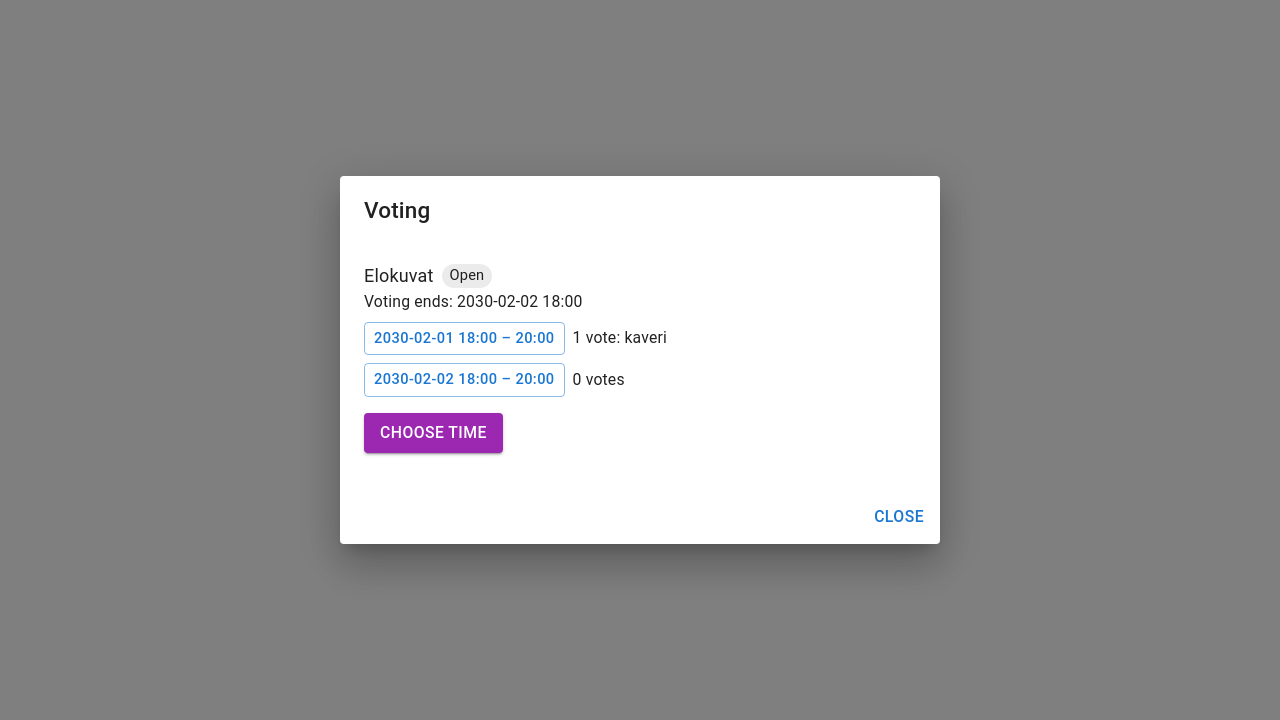
Scenario: VotingDialog › näyttää virheen, kun vahvistus epäonnistuu
Click the button "Choose time": (433,433) left=364, top=413, right=503, bottom=453
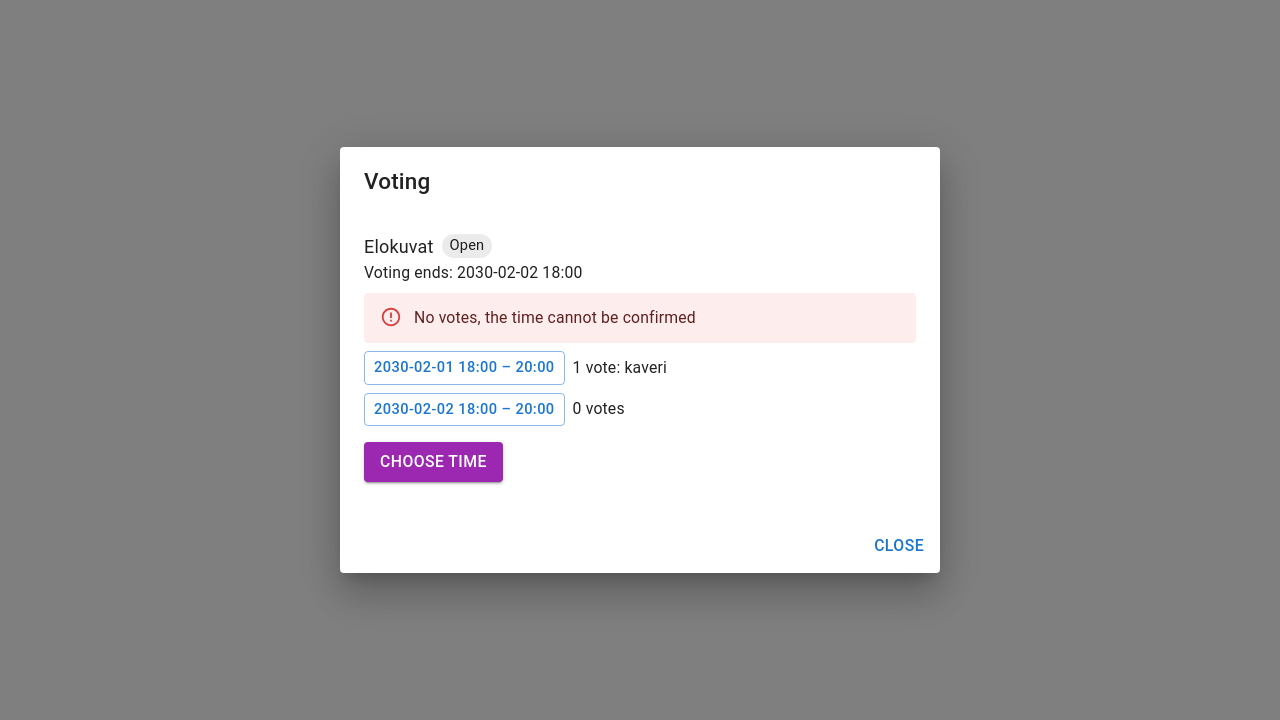
Check: the text "No votes, the time cannot be confirmed" is shown, box left=414, top=308, right=696, bottom=327
